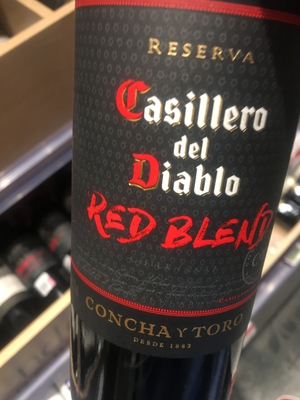casillero del diablo red blend: (70, 5, 300, 399)
